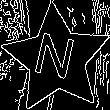N_S: (32, 30, 81, 89)
